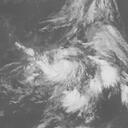cyclone: (21, 38, 97, 117)
